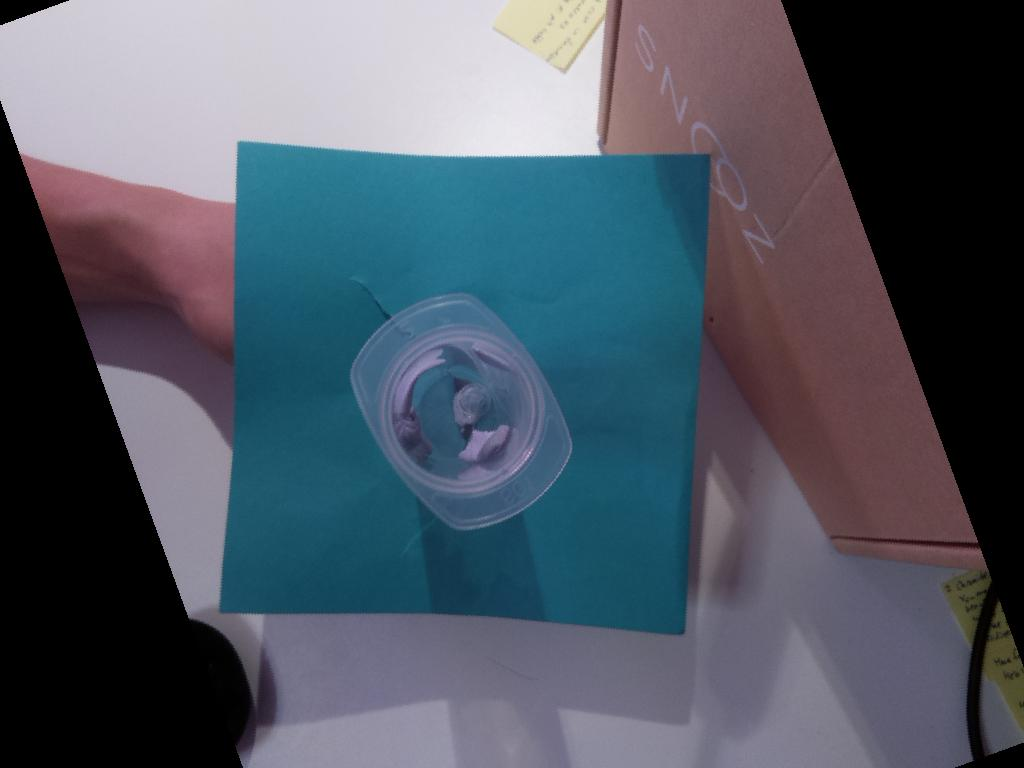dirty: (348, 292, 574, 530)
